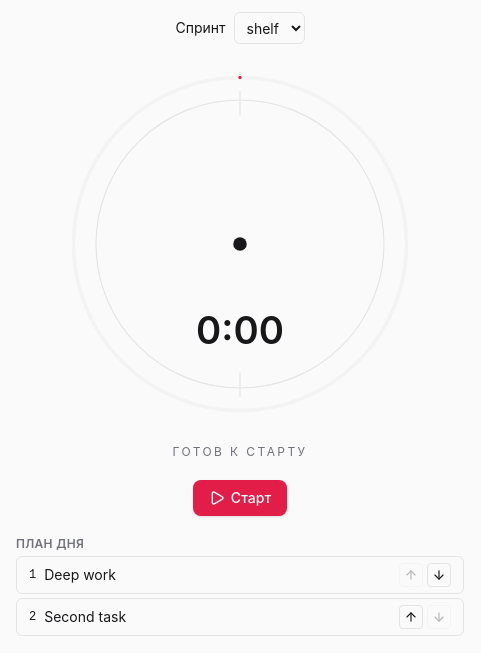
Test: FocusScreen › pre-start plan lists the scope's sectors with working arrows (§4.4)
expect the list item with test id "dial.pre-item-2" is shown: met, box [16, 598, 464, 636]
expect the list item with test id "dial.pre-item-1" shows "Deep work": met, box [44, 566, 116, 583]
Step 1. Click the button with test id "dial.pre-down-1" → (439, 575), box [427, 563, 451, 587]
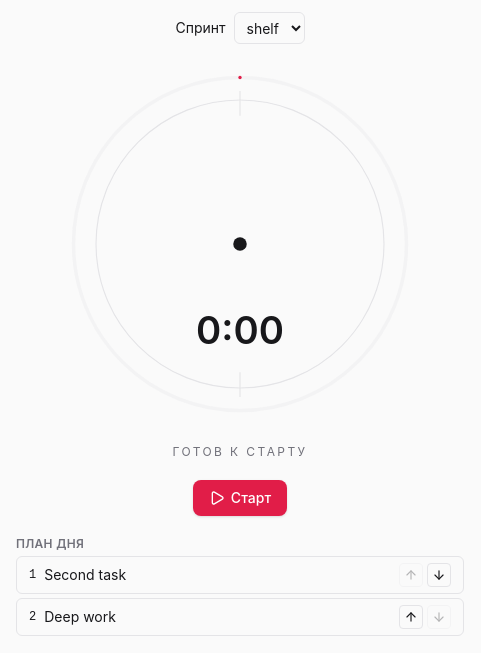
expect the list item with test id "dial.pre-item-1" shows "Second task": met, box [44, 566, 126, 583]
expect the list item with test id "dial.pre-item-2" shows "Deep work": met, box [44, 608, 116, 625]
